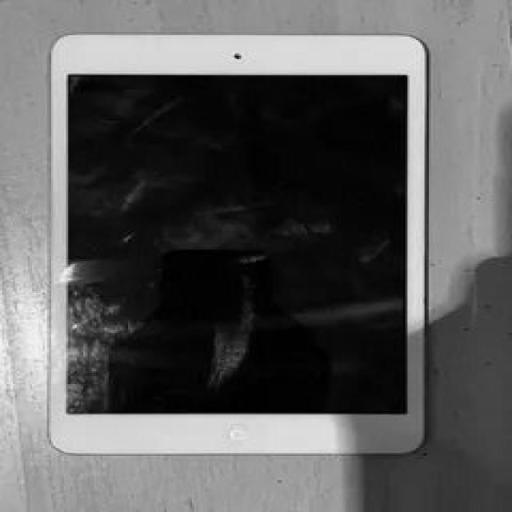phone: (43, 28, 438, 461)
